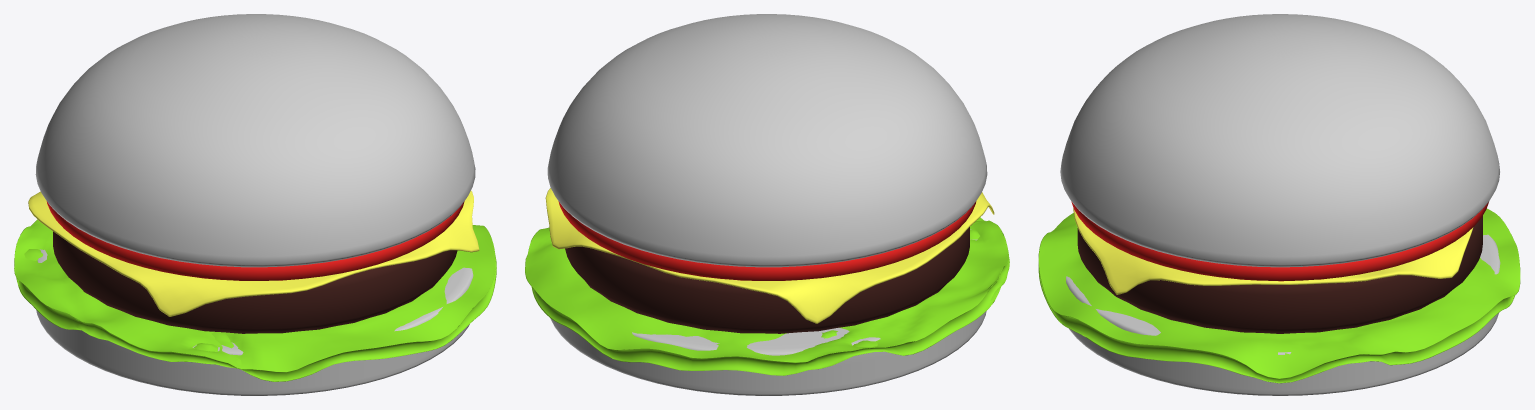
File: Burger.obj
The picture shows the model from 3 angles, left to right: view 1: azimuth 30°, elevation 25°; view 2: azimuth 150°, elevation 25°; view 3: azimuth 270°, elevation 25°; orthographic projection.
Parts seen in each view (by area): view 1: UpperPurger_Sphere, Lectus_Circle, Patty_Sphere.002, BottomBread_Sphere.005, cheese_Plane.004, tomato_Sphere.001; view 2: UpperPurger_Sphere, Lectus_Circle, Patty_Sphere.002, BottomBread_Sphere.005, cheese_Plane.004, tomato_Sphere.001; view 3: UpperPurger_Sphere, Lectus_Circle, Patty_Sphere.002, BottomBread_Sphere.005, cheese_Plane.004, tomato_Sphere.001.
Boxes of the visible parts, x1,y1,x2,y2 form: UpperPurger_Sphere: [35, 14, 475, 267]; Lectus_Circle: [14, 219, 496, 381]; Patty_Sphere.002: [53, 231, 457, 333]; BottomBread_Sphere.005: [36, 249, 473, 395]; cheese_Plane.004: [28, 190, 479, 316]; tomato_Sphere.001: [46, 201, 464, 280]; UpperPurger_Sphere: [547, 14, 987, 267]; Lectus_Circle: [525, 217, 1009, 375]; Patty_Sphere.002: [565, 227, 969, 333]; BottomBread_Sphere.005: [550, 229, 986, 395]; cheese_Plane.004: [545, 188, 994, 323]; tomato_Sphere.001: [558, 201, 976, 280]; UpperPurger_Sphere: [1060, 14, 1499, 267]; Lectus_Circle: [1038, 208, 1520, 383]; Patty_Sphere.002: [1077, 216, 1482, 333]; BottomBread_Sphere.005: [1066, 234, 1500, 395]; cheese_Plane.004: [1073, 208, 1473, 294]; tomato_Sphere.001: [1071, 201, 1488, 281].
Bounding box in the file's own units: 1.48 × 0.8726 × 1.47.
